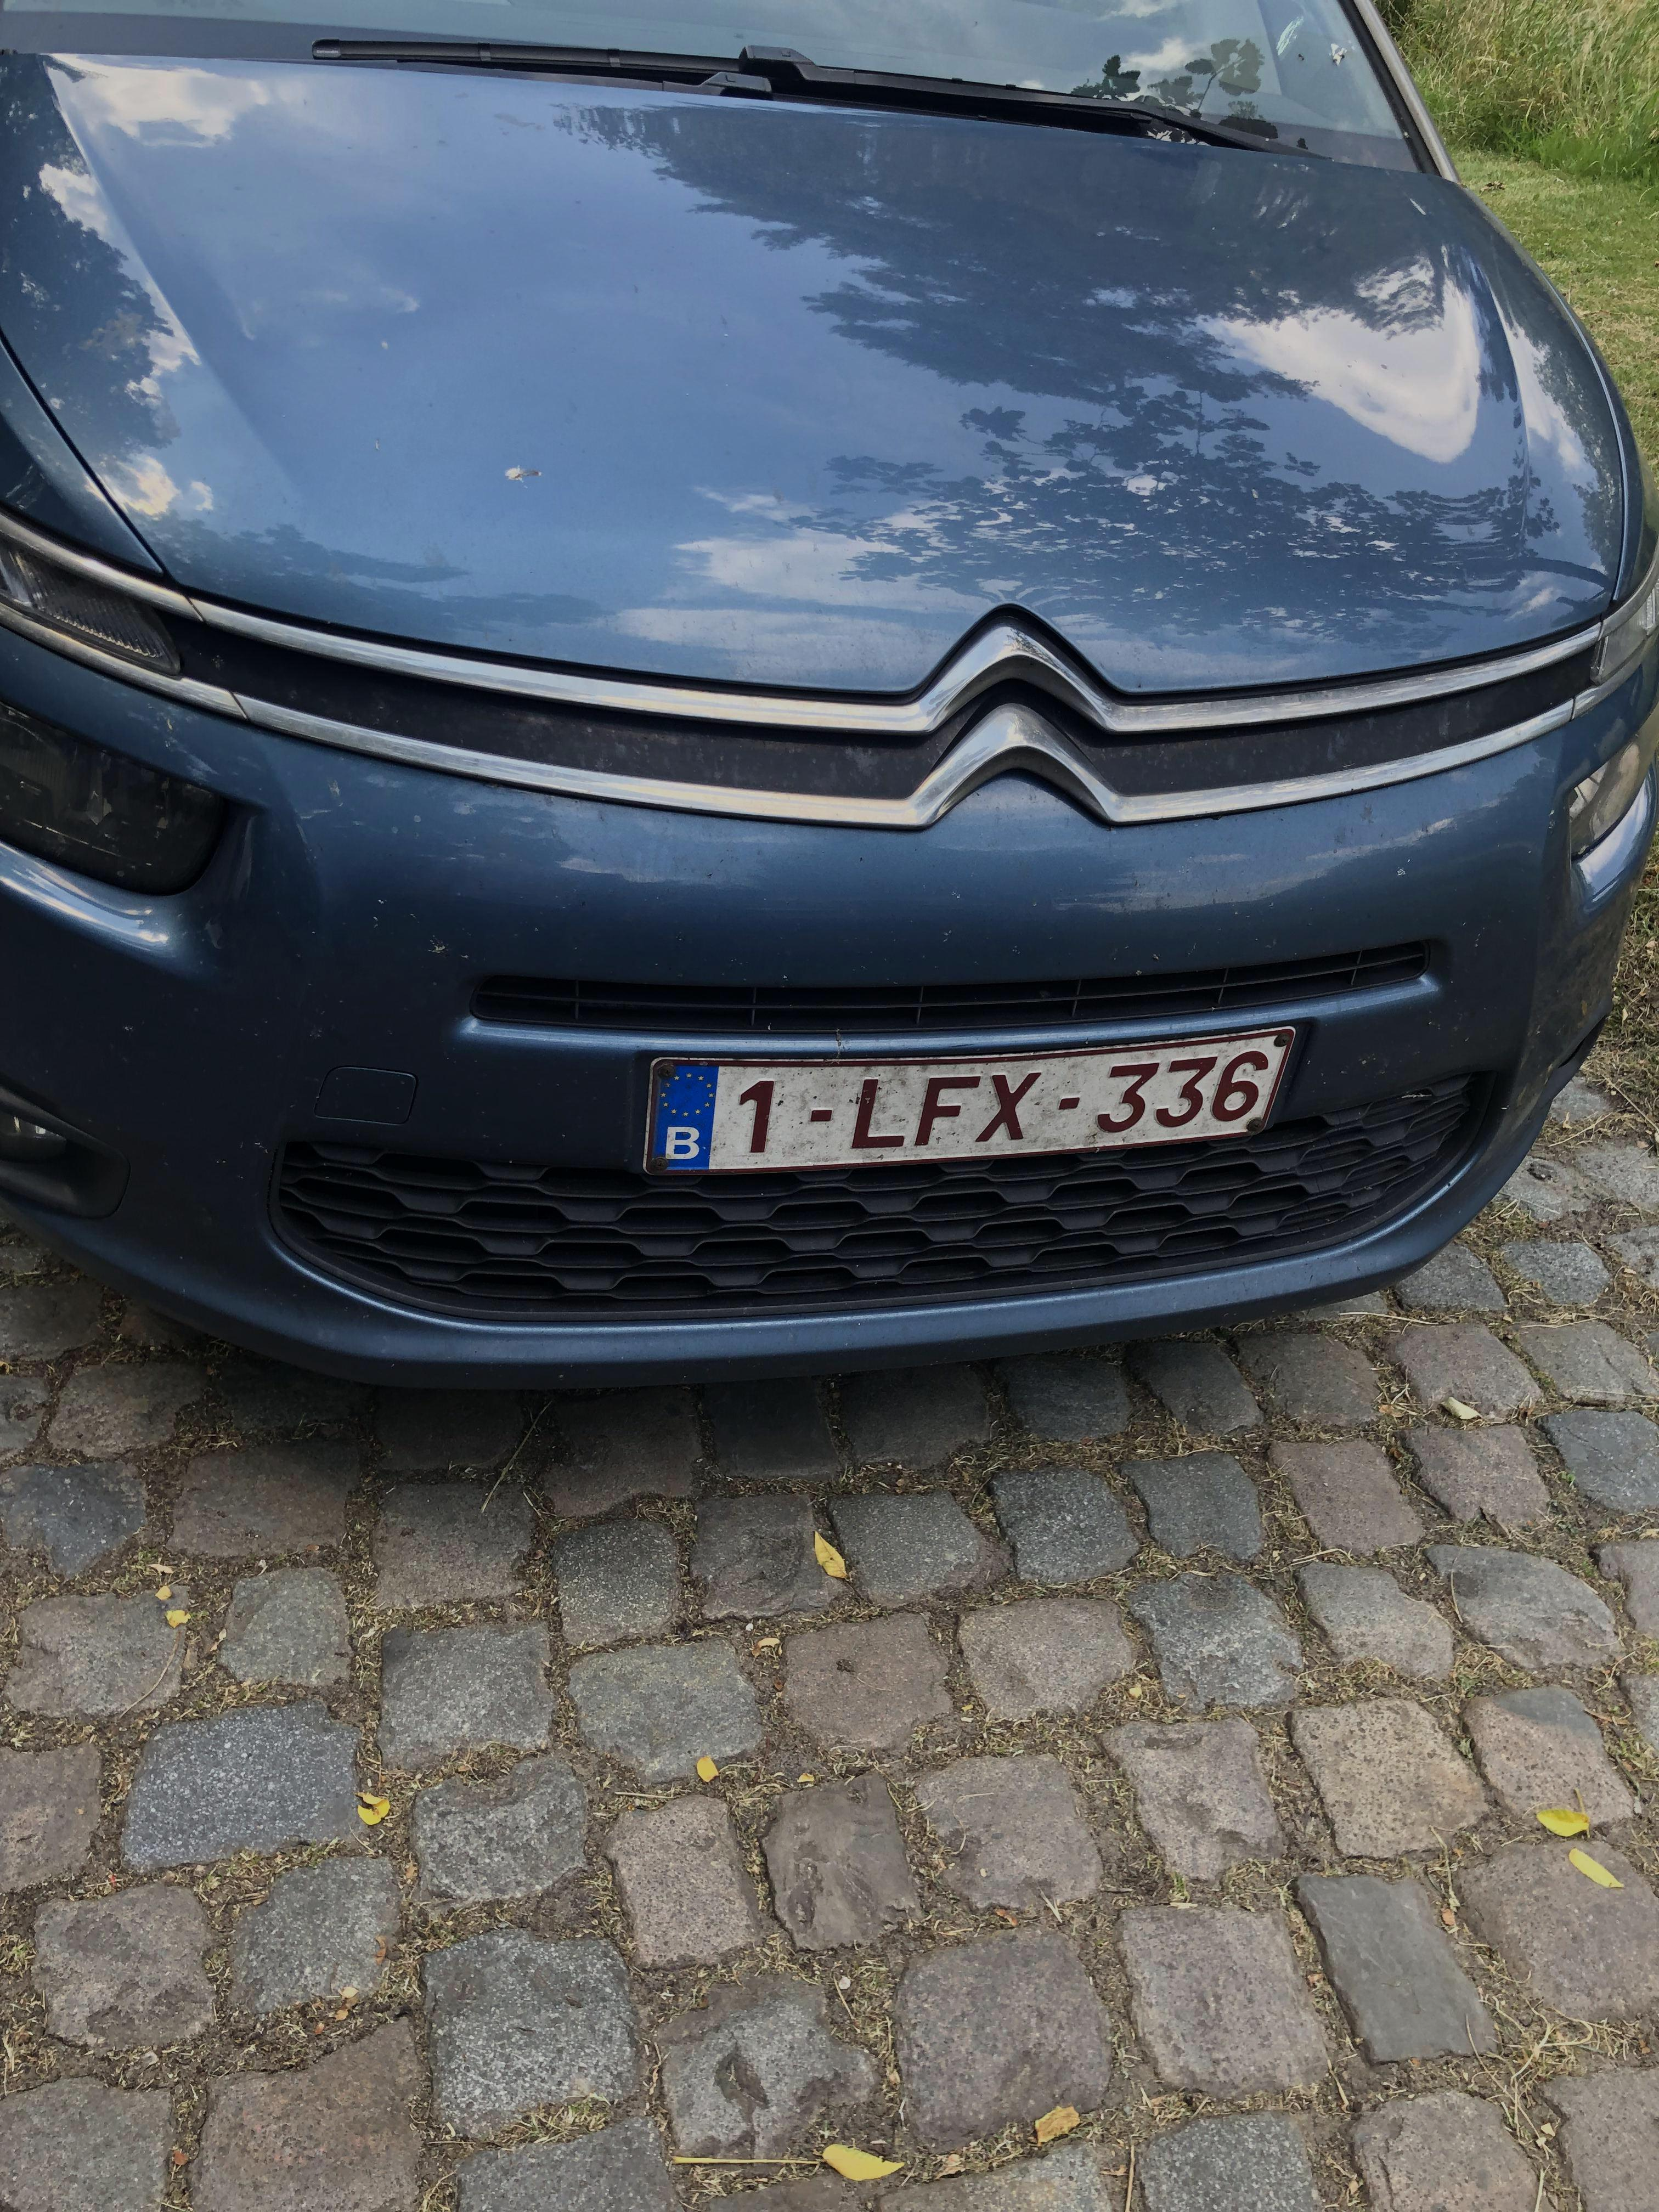plate: (616, 1015, 1321, 1194)
